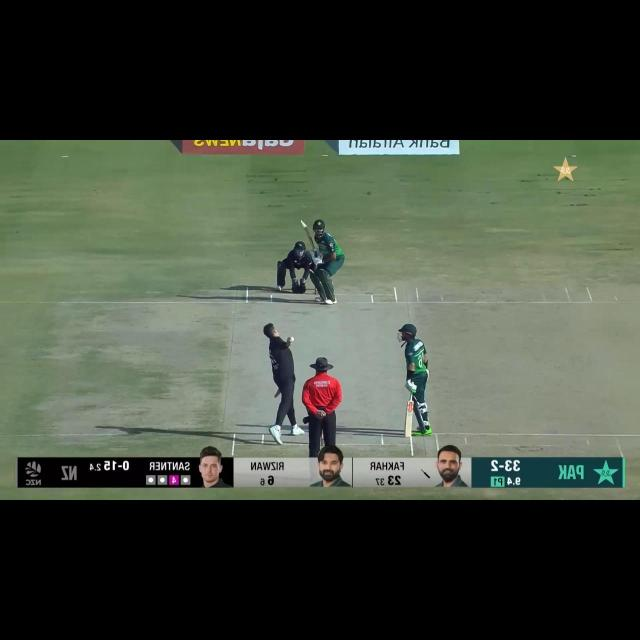bat: (299, 220, 318, 252), (404, 400, 414, 438)
toe: (403, 432, 414, 440), (300, 221, 308, 229)
